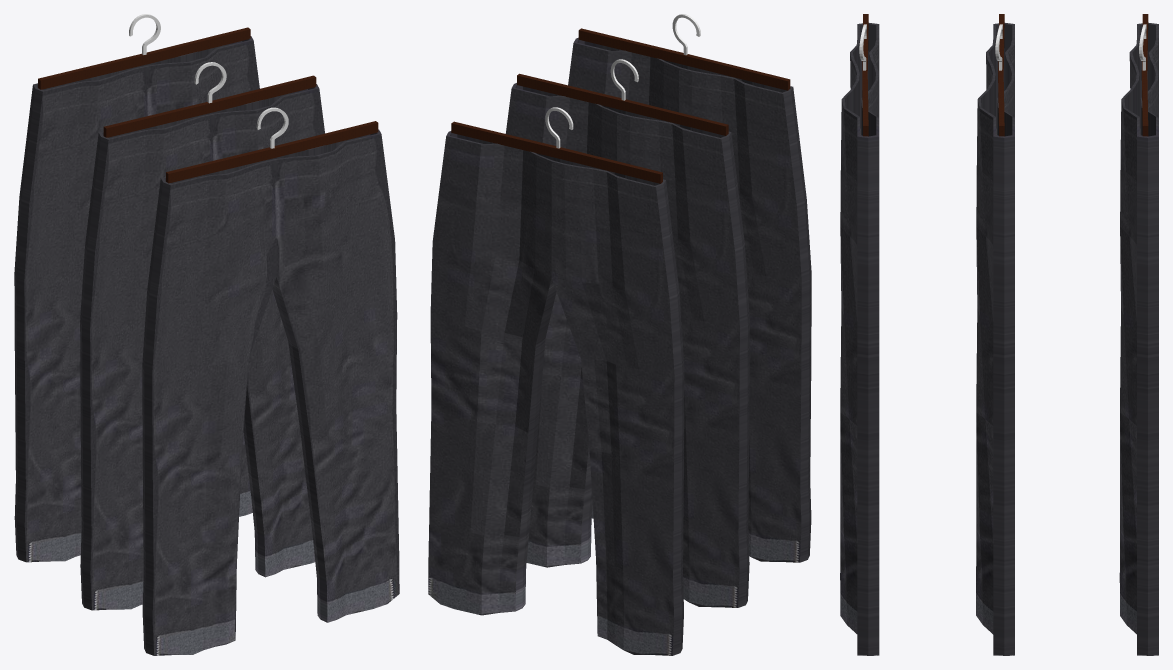
The model's file is crow3.glb.
The picture shows the model from 3 angles, left to right: view 1: azimuth 30°, elevation 25°; view 2: azimuth 150°, elevation 25°; view 3: azimuth 270°, elevation 25°; orthographic projection. The views are drawn at different scales.
Parts seen in each view (by area): view 1: Plane.016; view 2: Plane.016; view 3: Plane.016.
Part boxes in pixels (left/top/right/bottom): Plane.016: left=14, top=14, right=399, bottom=655; Plane.016: left=428, top=14, right=811, bottom=655; Plane.016: left=840, top=14, right=1158, bottom=655.
Size of the model in its own units: 0.2381 by 0.4706 by 0.2371.
3 materials, 3 textured.
